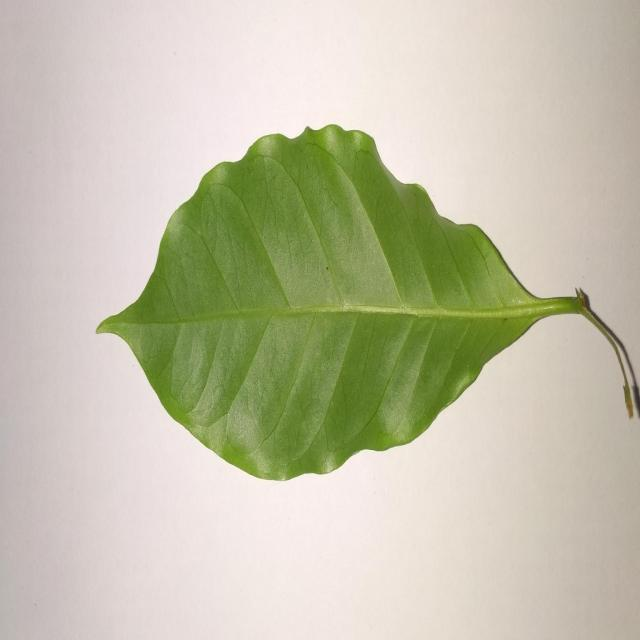Sanas: (94, 124, 636, 484)
